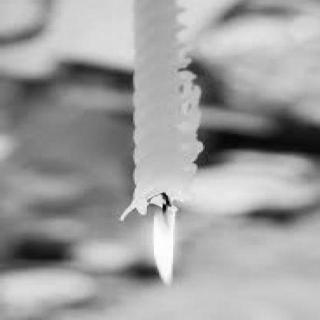Fire: (137, 192, 191, 294)
